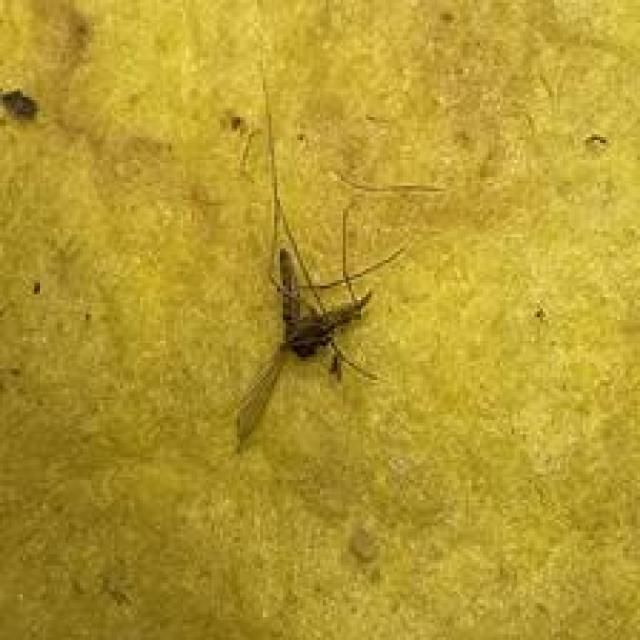Culex: (227, 67, 442, 456)
